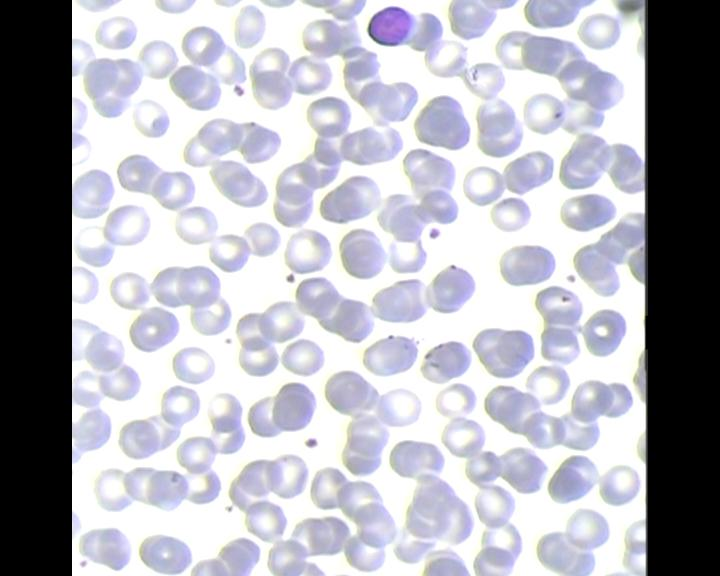lymp: (362, 5, 422, 52)
